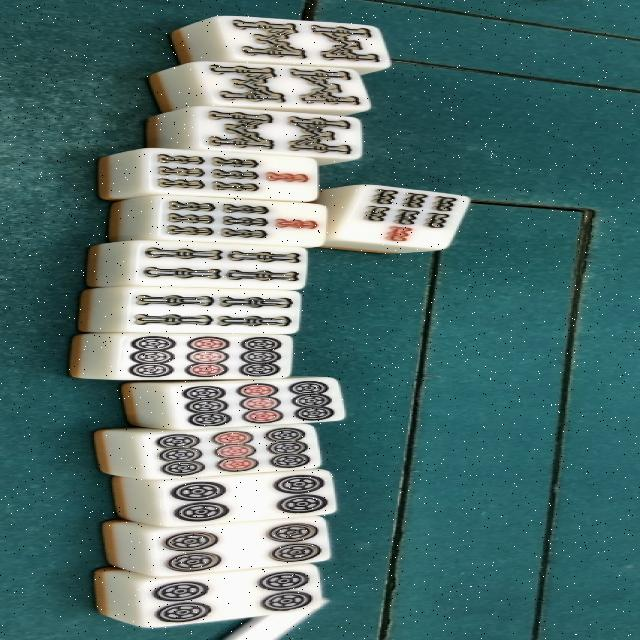bamboos_4: (99, 240, 334, 286), (85, 288, 320, 331)
bamboos_7: (120, 150, 329, 202), (130, 198, 335, 248), (318, 187, 478, 250)
bamboos_8: (200, 19, 397, 72), (187, 64, 383, 112), (181, 111, 362, 159)
circles_4: (129, 568, 323, 626), (120, 522, 332, 574), (144, 470, 330, 525)
circles_9: (78, 335, 287, 384), (118, 428, 317, 479), (141, 382, 335, 427)
